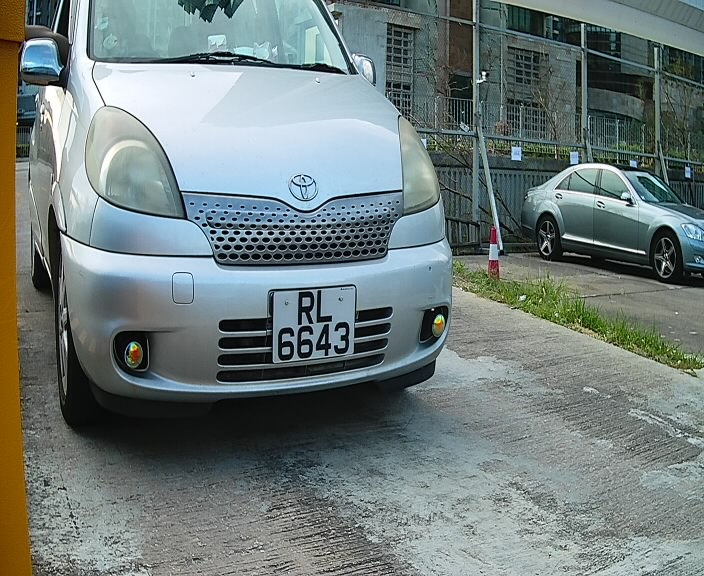Car: (18, 2, 463, 435)
License Plate: (261, 280, 366, 373)
